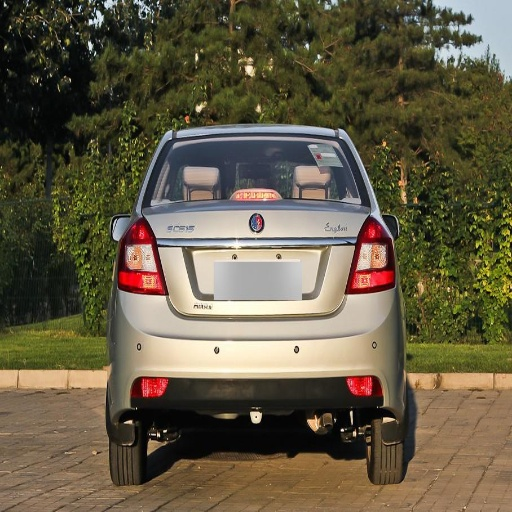back_bumper: (107, 287, 400, 418)
